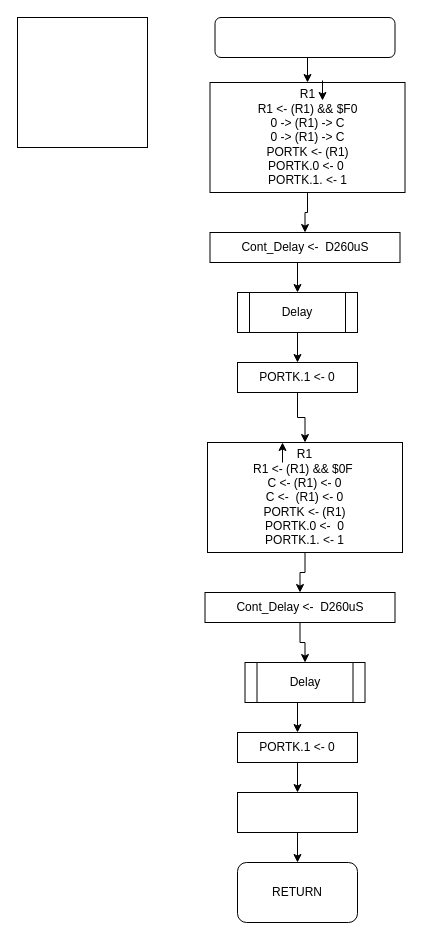
Image size: 423x940. Some labels were removed from this diagram. Each missing label, with the centre of its shape:
"C - carry K. - Y J - X R1 - A R2 - B RR1 - D" belongs at [82,82].
"RTS" belongs at [297,812].
"SEND_COMMAND" belongs at [304,37].
